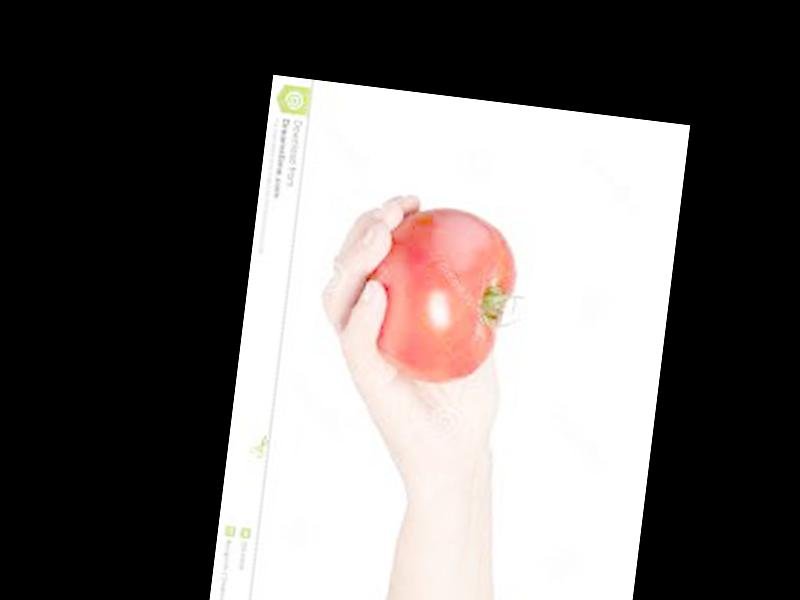Tomato: (356, 199, 525, 393)
